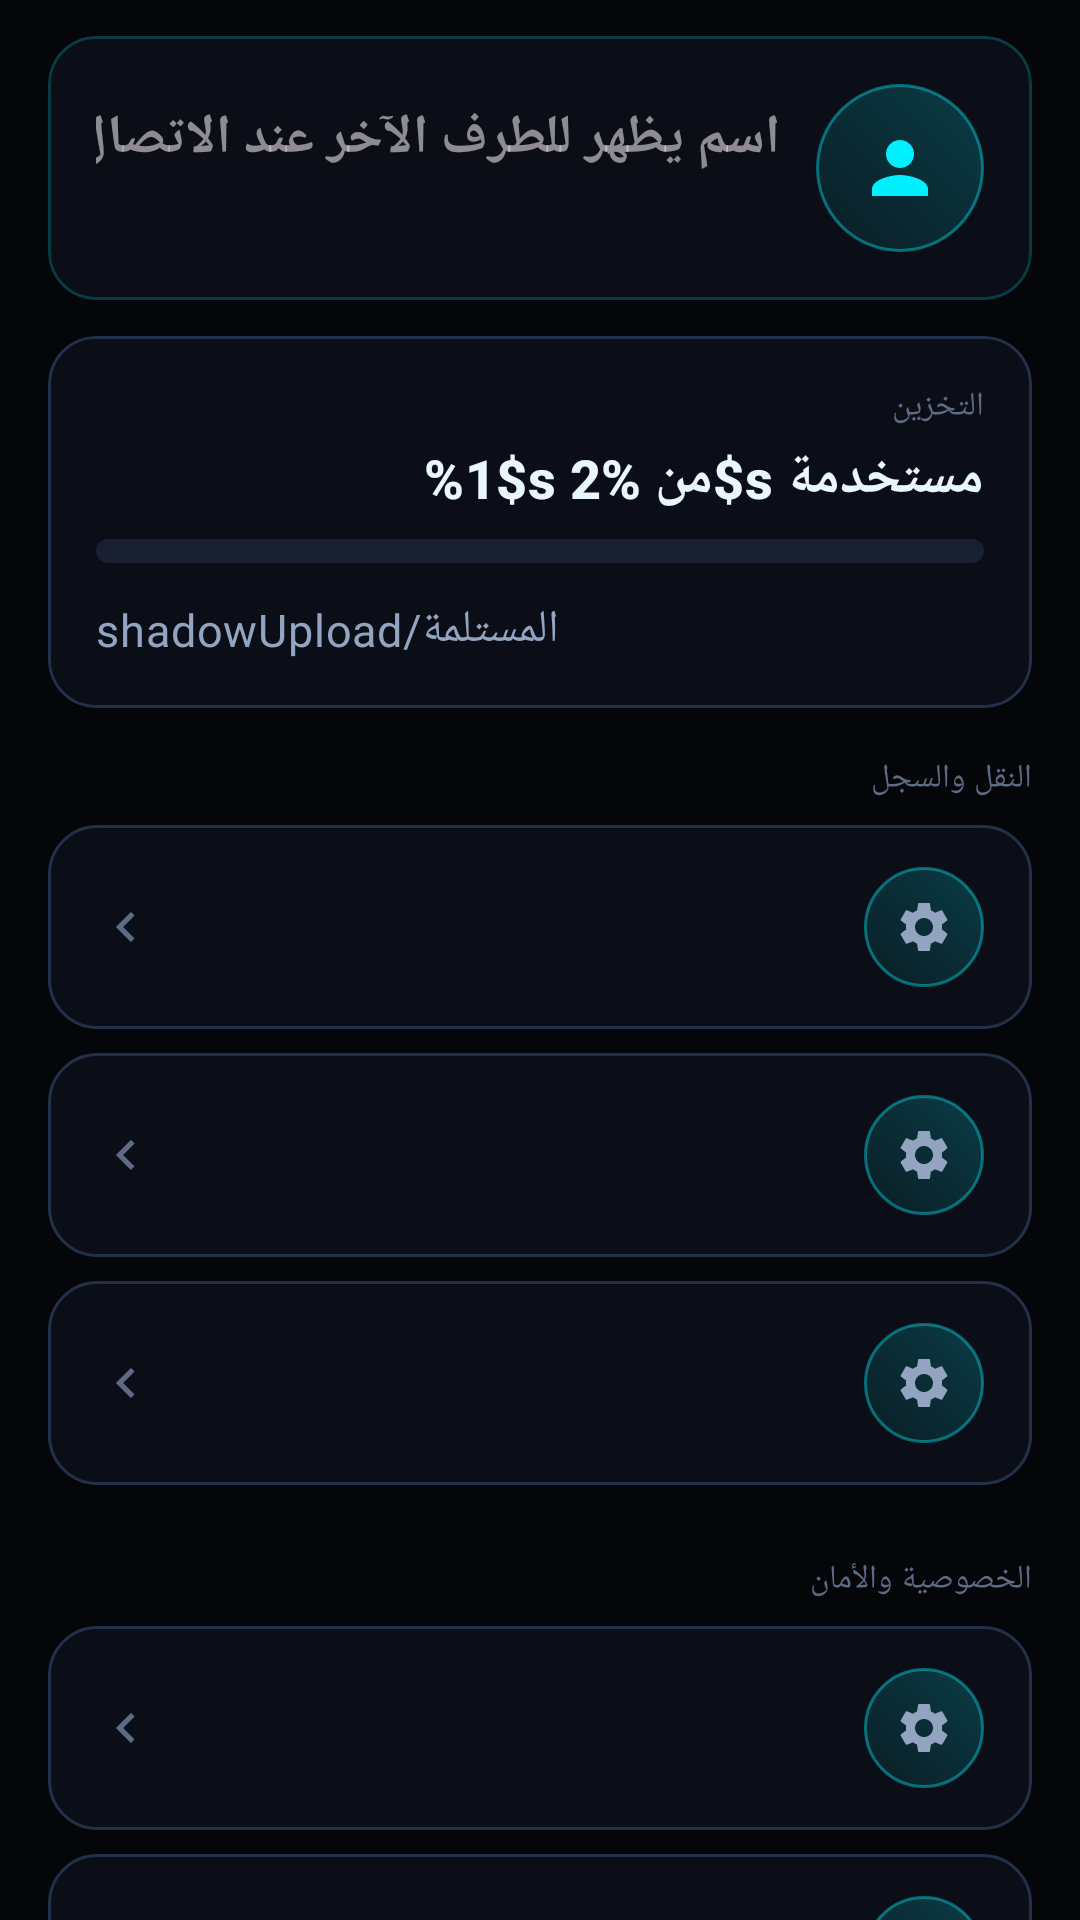

Icon click points for this 1080 × 1920 phone screenshot, format point (x, y):
settings: point (924, 927), point (924, 1155), point (924, 1383), point (924, 1728)
